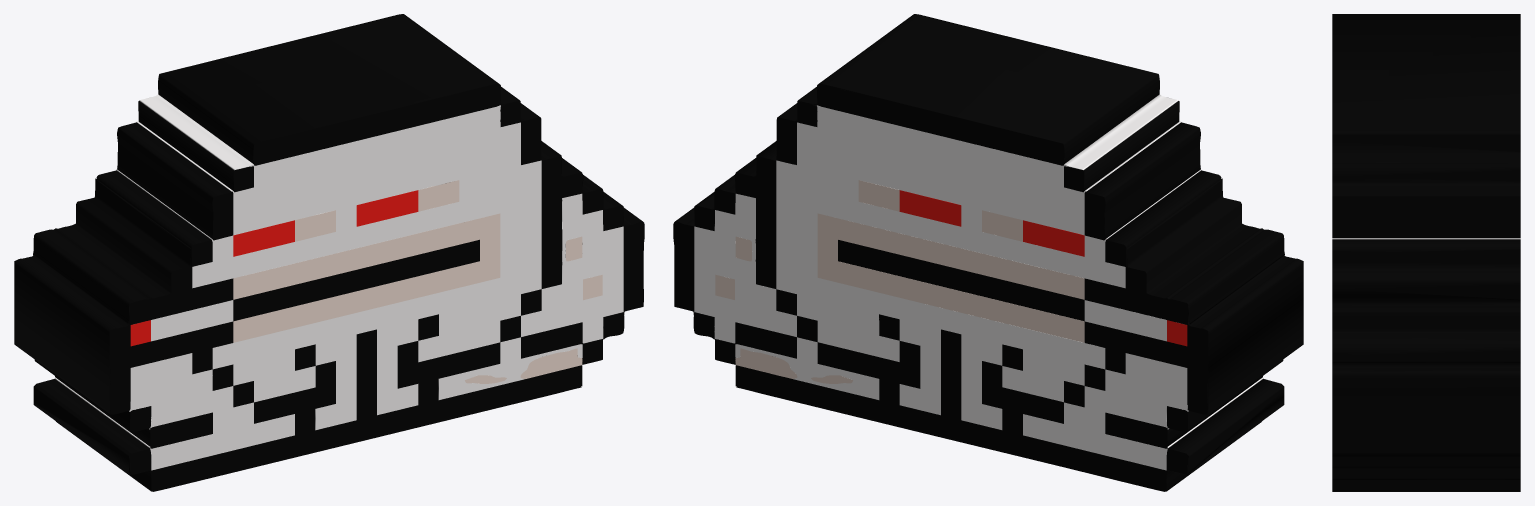
Rendered from Toadz_1475.glb.
3 views of the same model, side by side, from view 1: azimuth 30°, elevation 25°; view 2: azimuth 150°, elevation 25°; view 3: azimuth 270°, elevation 25° (orthographic).
Visible parts, largest first — view 1: Curve; view 2: Curve; view 3: Curve.
Part boxes in pixels (x1,y1,x2,y2): Curve: (14, 14, 644, 491); Curve: (673, 14, 1303, 491); Curve: (1332, 14, 1520, 491).
Bounding box in the file's own units: 3.24 × 1.88 × 1.
